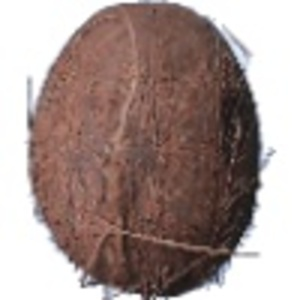coco: (27, 1, 276, 300)
